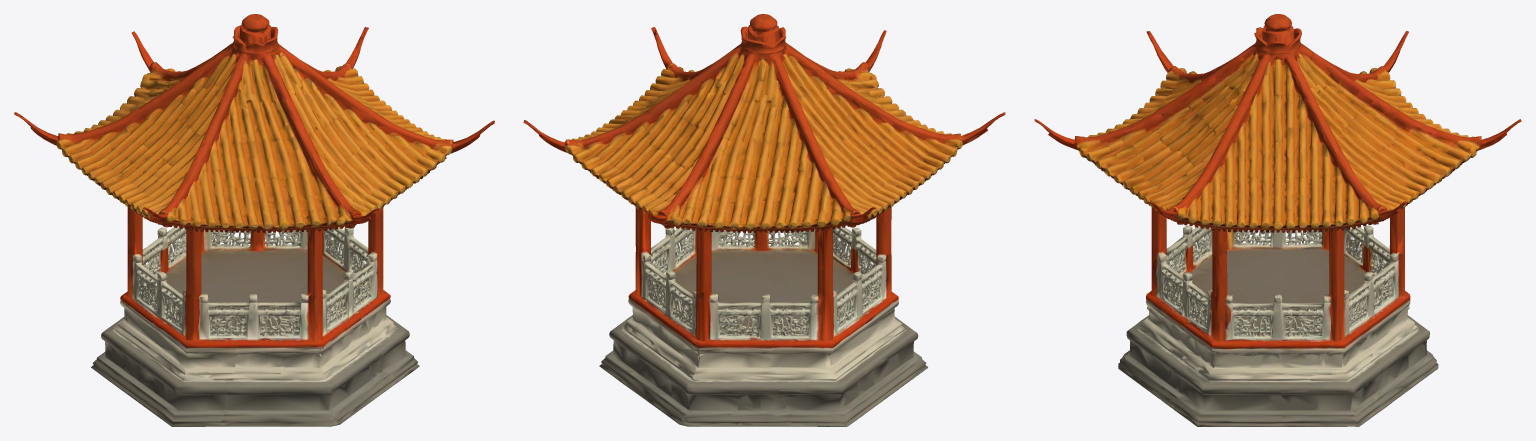
The model's file is pavilion.glb.
3 renders of one model, left to right at view 1: azimuth 30°, elevation 25°; view 2: azimuth 150°, elevation 25°; view 3: azimuth 270°, elevation 25°, orthographic.
Parts seen in each view (by area): view 1: tripo_node_09bf5e81-3934-4778-bcb8-c1148ff4fc5e; view 2: tripo_node_09bf5e81-3934-4778-bcb8-c1148ff4fc5e; view 3: tripo_node_09bf5e81-3934-4778-bcb8-c1148ff4fc5e.
Boxes of the visible parts, <box> form: tripo_node_09bf5e81-3934-4778-bcb8-c1148ff4fc5e: <box>14,14,494,426</box>; tripo_node_09bf5e81-3934-4778-bcb8-c1148ff4fc5e: <box>523,14,1005,426</box>; tripo_node_09bf5e81-3934-4778-bcb8-c1148ff4fc5e: <box>1034,14,1521,426</box>.
Bounding box in the file's own units: 0.8193 × 0.7742 × 0.9785.
Materials: 1 (1 with a texture image).
